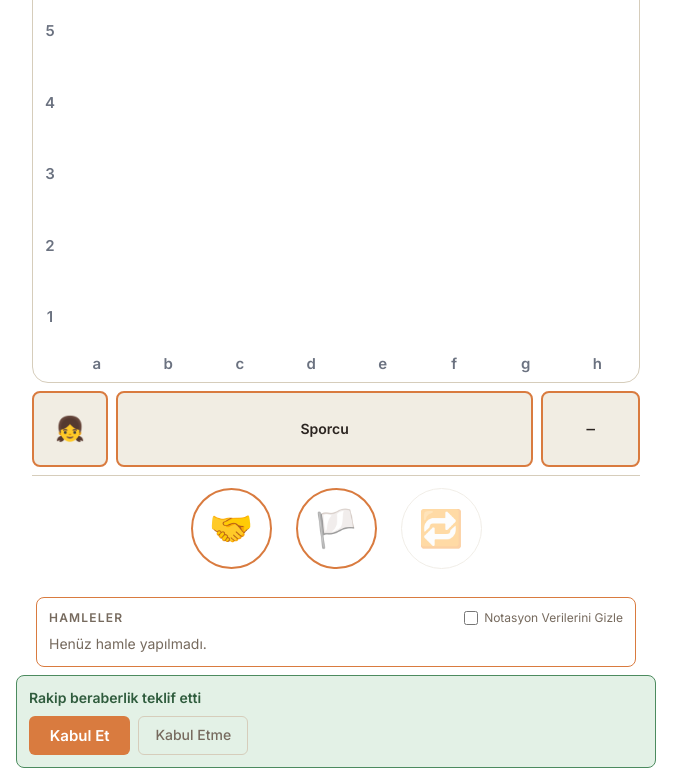
LiveGame — beraberlik teklifi (madde d) › Kabul Etme decline_draw gönderir ve teklif kartını kapatır
(page scrolled)
Click the button "Kabul Etme" at (193, 735), box left=138, top=716, right=248, bottom=755
(page scrolled)
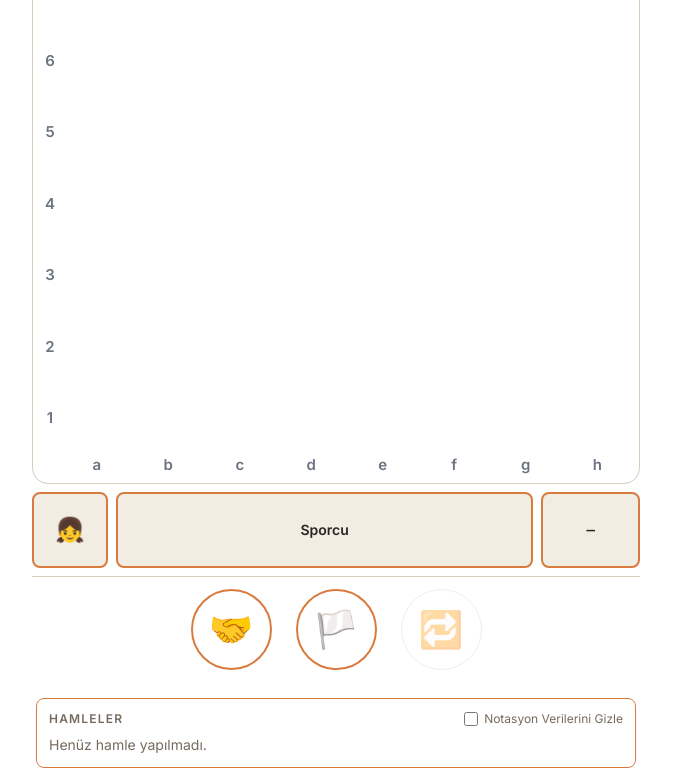
Result: the button "Kabul Et" is gone
